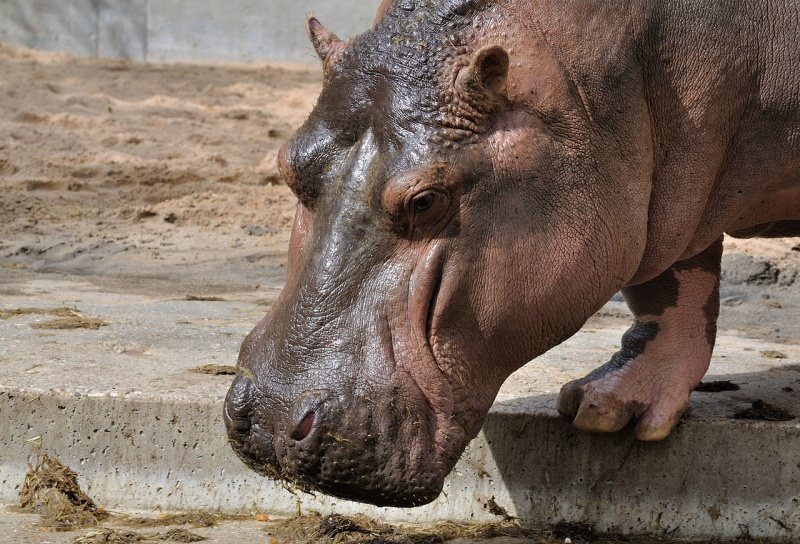hipopotamo: (221, 0, 796, 507)
